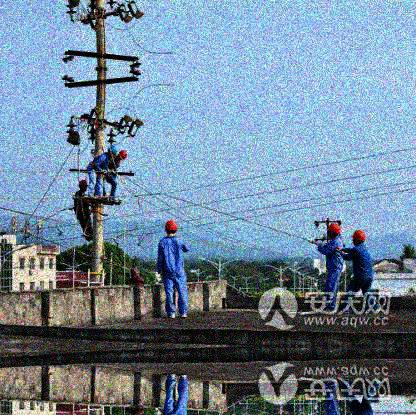helmet: (351, 230, 366, 247), (327, 222, 341, 240), (165, 221, 178, 236), (107, 146, 117, 158), (79, 179, 88, 191), (118, 149, 128, 159)
